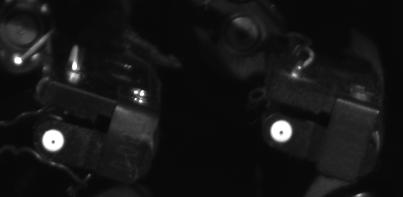fiber: (266, 117, 302, 145), (38, 127, 72, 155)
